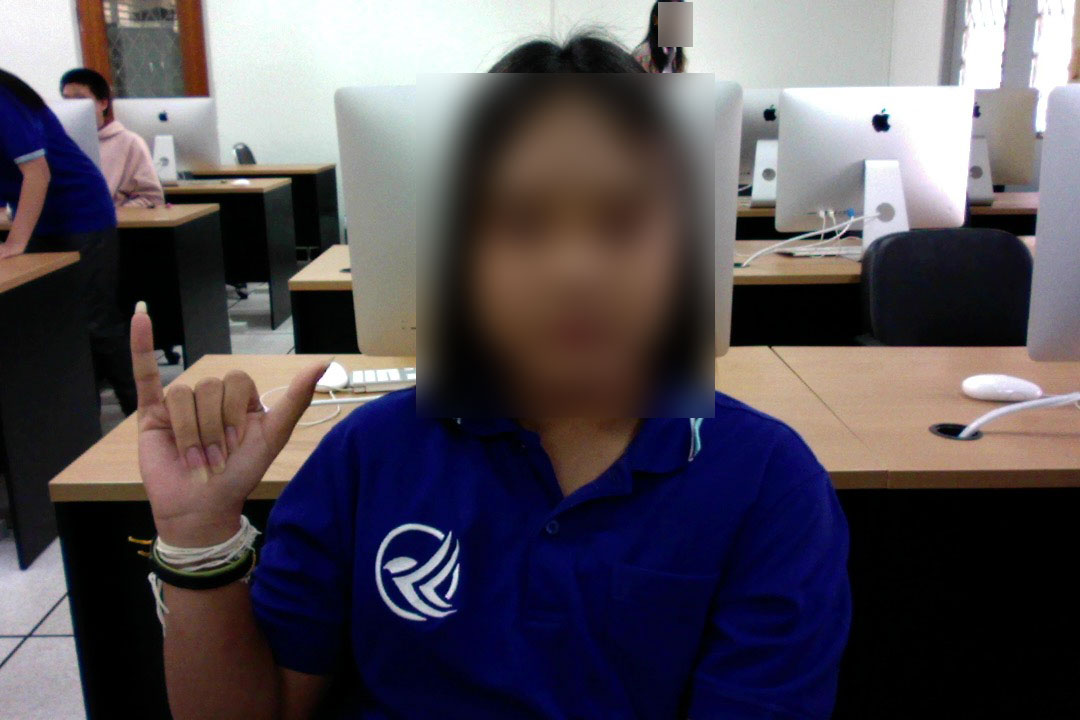yor: (120, 295, 338, 540)
